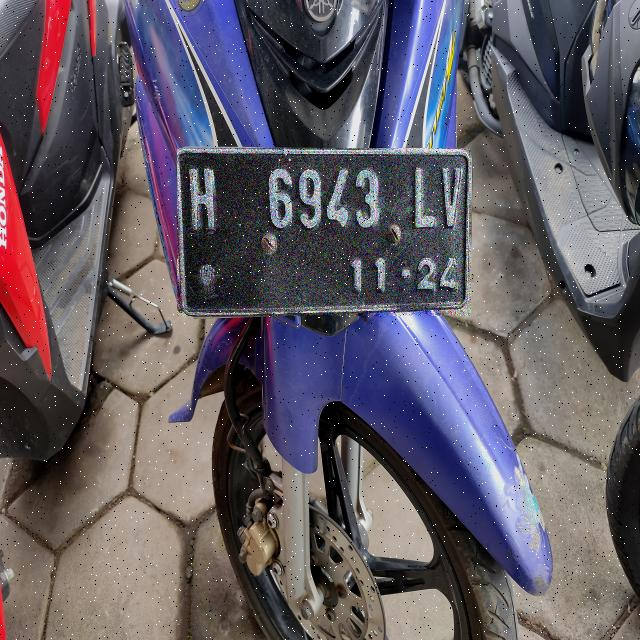plate: (177, 148, 469, 315)
